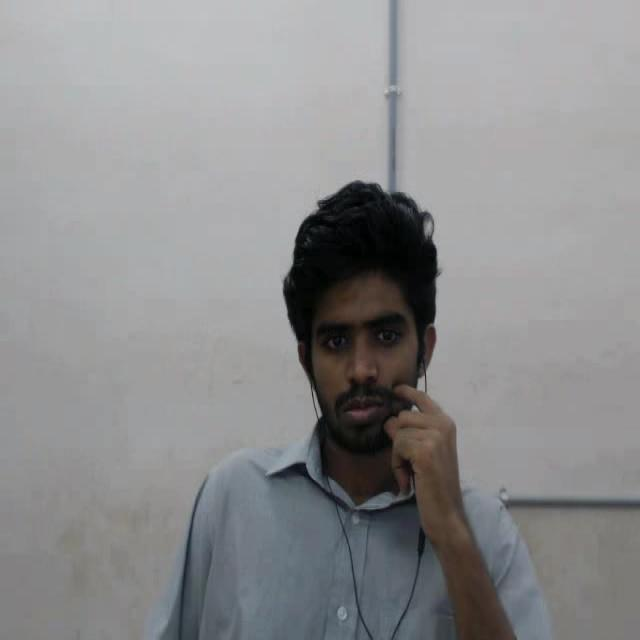Bored: (259, 174, 471, 469)
